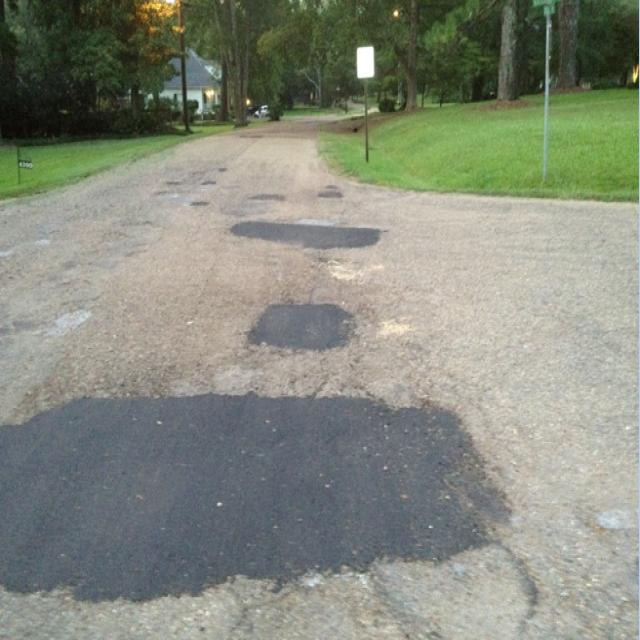Pothole: (0, 390, 492, 605), (251, 300, 359, 352), (242, 217, 380, 256)
